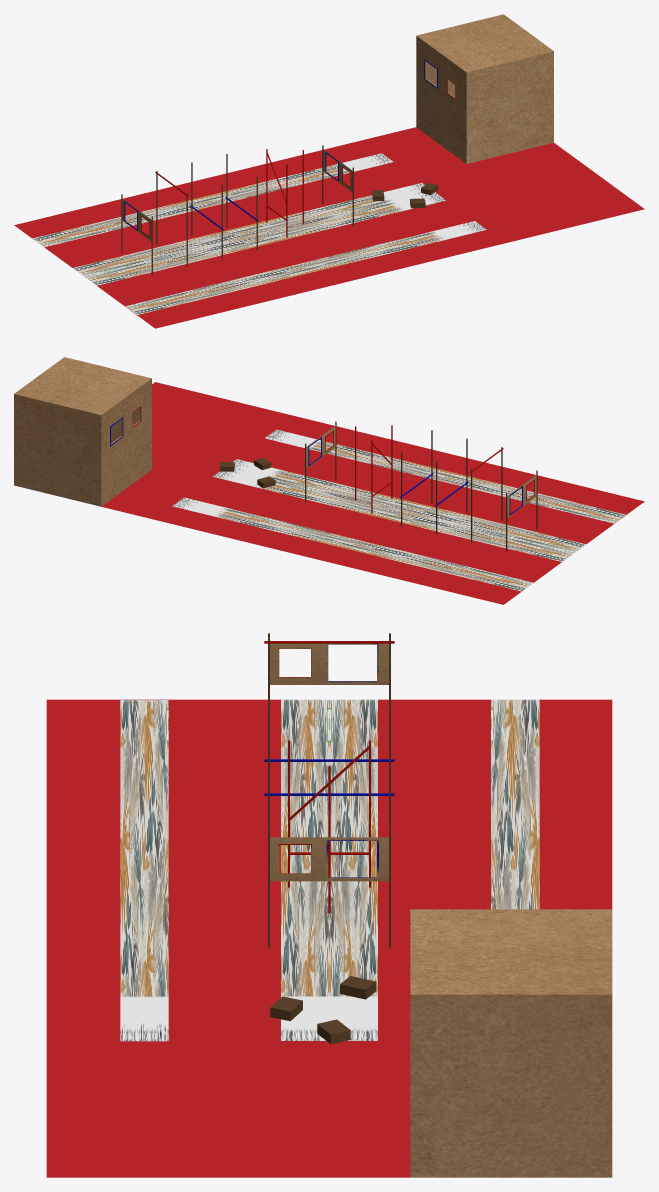
Rendered from all.dae.
3 views of the same model, one above another, from view 1: azimuth 30°, elevation 25°; view 2: azimuth 150°, elevation 25°; view 3: azimuth 270°, elevation 25° (orthographic). The views are drawn at different scales.
Parts seen in each view (by area): view 1: carpete, caixa, wallpaper_right, wallpaper_center_right, wallpaper_center_left, wallpaper_left, janelas, janelas.001, canos; view 2: carpete, caixa, wallpaper_left, wallpaper_center_right, wallpaper_center_left, wallpaper_right, janelas, janelas.001, canos; view 3: carpete, caixa, wallpaper_right, wallpaper_center_left, wallpaper_center_right, wallpaper_left, janelas.001, janelas, canos.
Boxes of the visible parts, left/top/right/bottom form: carpete: left=14, top=127, right=644, bottom=328; caixa: left=416, top=14, right=553, bottom=163; wallpaper_right: left=125, top=221, right=486, bottom=314; wallpaper_center_right: left=85, top=192, right=445, bottom=285; wallpaper_center_left: left=73, top=183, right=424, bottom=276; wallpaper_left: left=32, top=153, right=393, bottom=247; janelas: left=121, top=194, right=152, bottom=275; janelas.001: left=322, top=145, right=353, bottom=226; canos: left=266, top=149, right=303, bottom=237; carpete: left=101, top=382, right=644, bottom=604; caixa: left=14, top=357, right=151, bottom=506; wallpaper_left: left=172, top=497, right=533, bottom=591; wallpaper_center_right: left=233, top=459, right=585, bottom=552; wallpaper_center_left: left=213, top=470, right=573, bottom=561; wallpaper_right: left=265, top=429, right=625, bottom=523; janelas: left=506, top=470, right=537, bottom=551; janelas.001: left=305, top=421, right=336, bottom=502; canos: left=355, top=425, right=392, bottom=513; carpete: left=46, top=699, right=612, bottom=1177; caixa: left=410, top=909, right=612, bottom=1177; wallpaper_right: left=120, top=700, right=168, bottom=1041; wallpaper_center_left: left=329, top=699, right=377, bottom=1040; wallpaper_center_right: left=281, top=699, right=329, bottom=1040; wallpaper_left: left=491, top=699, right=539, bottom=909; janelas.001: left=268, top=829, right=390, bottom=947; janelas: left=268, top=633, right=390, bottom=684; canos: left=288, top=740, right=370, bottom=913.
Size of the model in its own units: 14 by 7 by 2.51.
